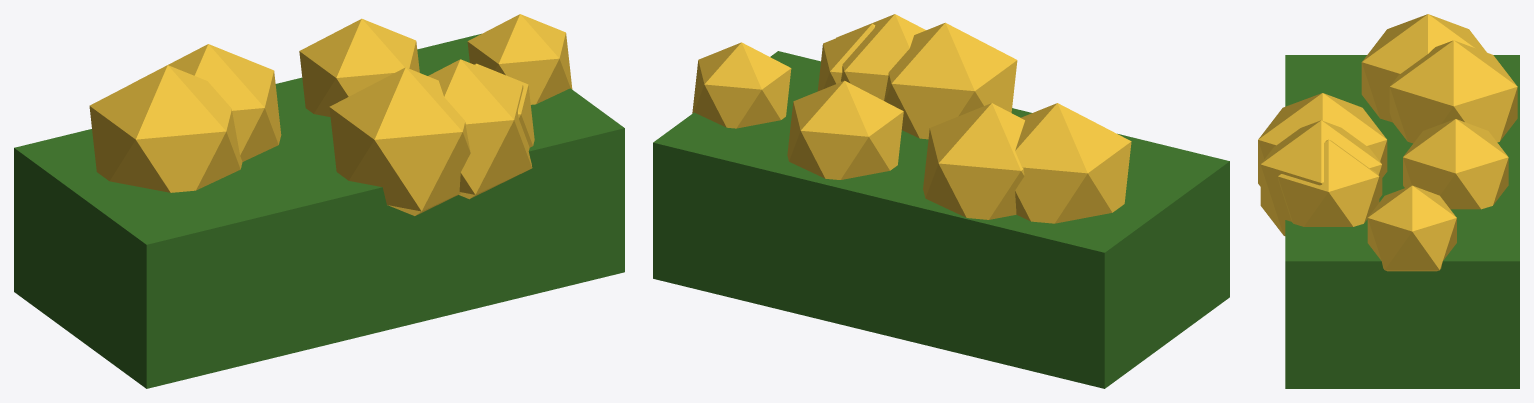
The model's file is flower_row_yellow.fbx.
3 renders of one model, left to right at view 1: azimuth 30°, elevation 25°; view 2: azimuth 150°, elevation 25°; view 3: azimuth 270°, elevation 25°, orthographic. The views are drawn at different scales.
Visible parts, largest first — view 1: flower_row_yellow; view 2: flower_row_yellow; view 3: flower_row_yellow.
Part boxes in pixels (box(x1,y1,x2,y2)): flower_row_yellow: box(14, 14, 624, 388); flower_row_yellow: box(653, 14, 1229, 388); flower_row_yellow: box(1258, 14, 1519, 388).
Bounding box in the file's own units: 1.28 × 0.5994 × 0.6696.
